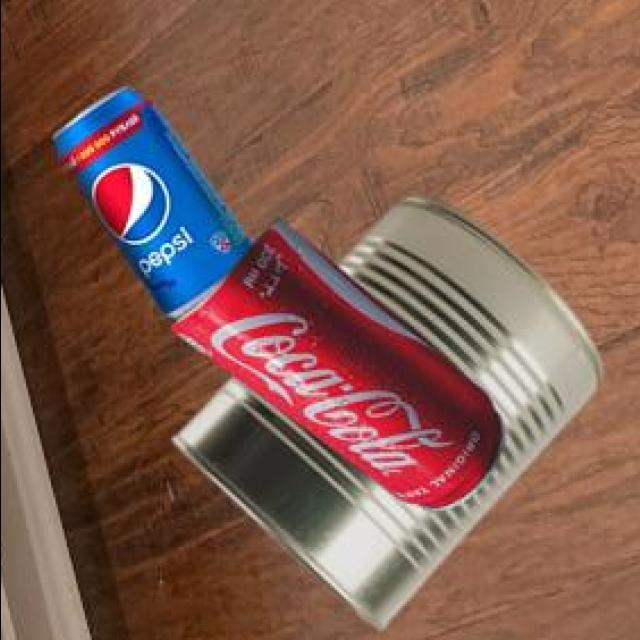logam: (169, 201, 598, 632), (167, 221, 500, 514), (51, 92, 249, 321)
